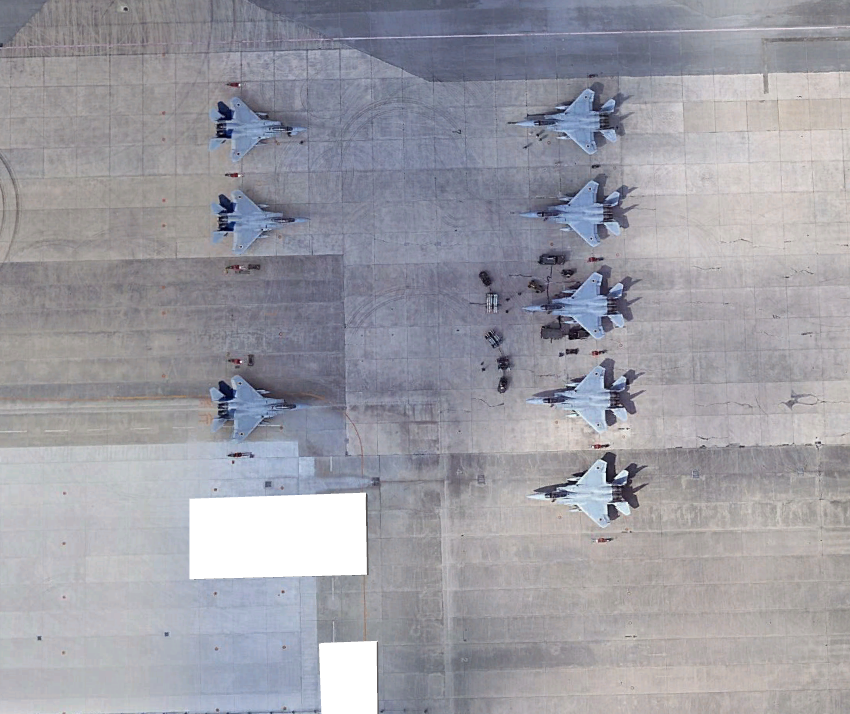A13: (508, 86, 623, 160), (514, 172, 629, 246), (519, 268, 634, 342), (522, 361, 637, 435), (524, 454, 639, 528), (208, 95, 315, 167), (208, 182, 315, 254), (206, 371, 313, 443)
